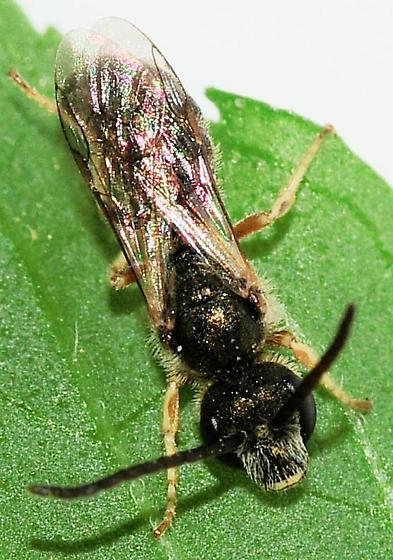Seladonia: (2, 16, 383, 535)
